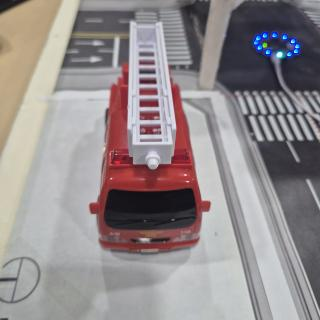Fire_truck: (90, 21, 210, 252)
